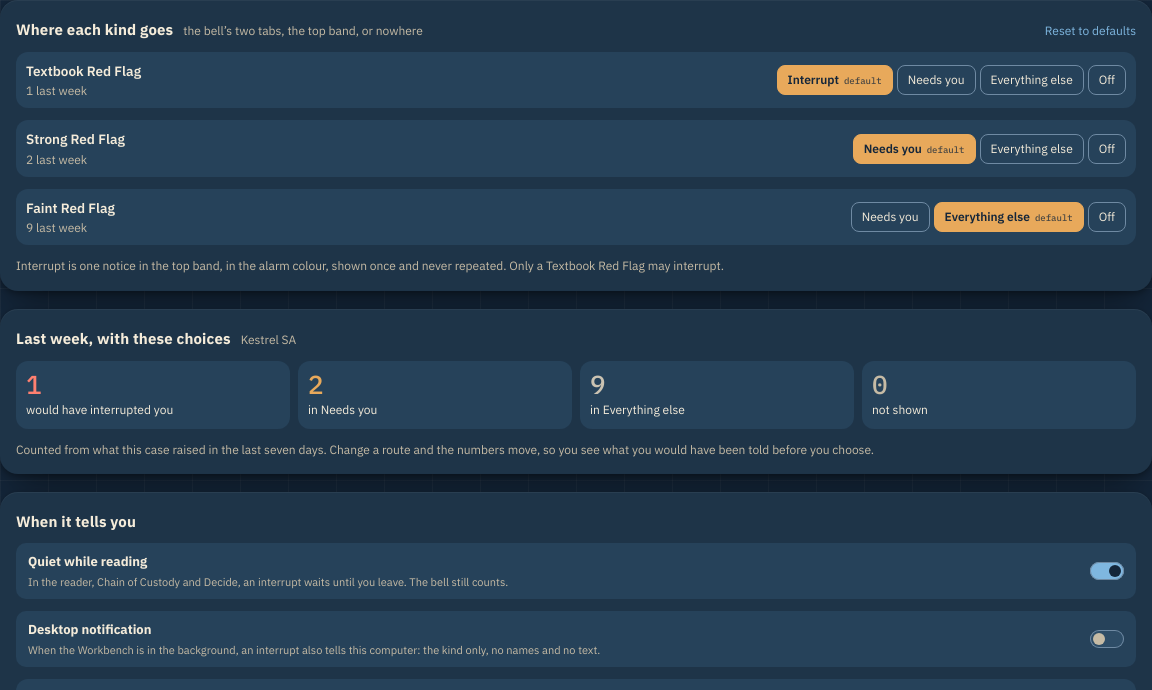
Settings › Notifications › replays last week with the routes on screen and saves a route as it is chosen
expect the text "1" is shown: met, box [26, 367, 42, 401]
expect the text "9" is shown: met, box [590, 367, 606, 401]
Click the radio button labelled "Off" in the row of "Faint Red Flag": [1107, 217] box [1088, 202, 1126, 232]
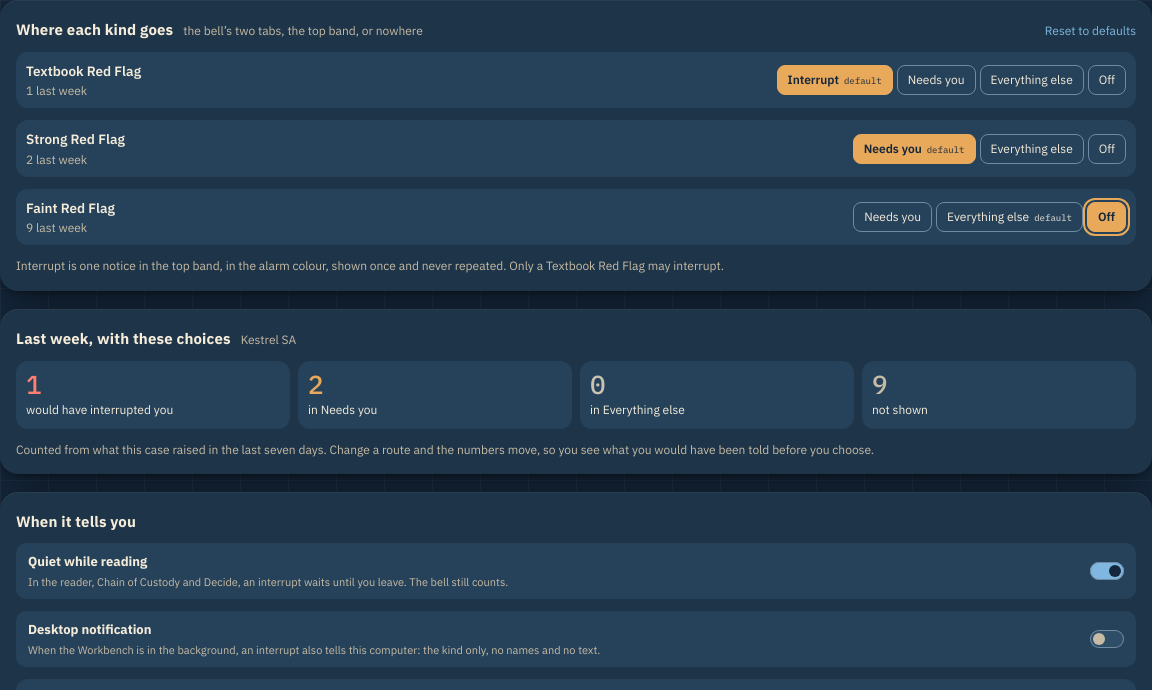
expect the text "not shown" is shown: met, box [872, 402, 928, 417]
expect the text "9" is shown: met, box [872, 367, 888, 401]
